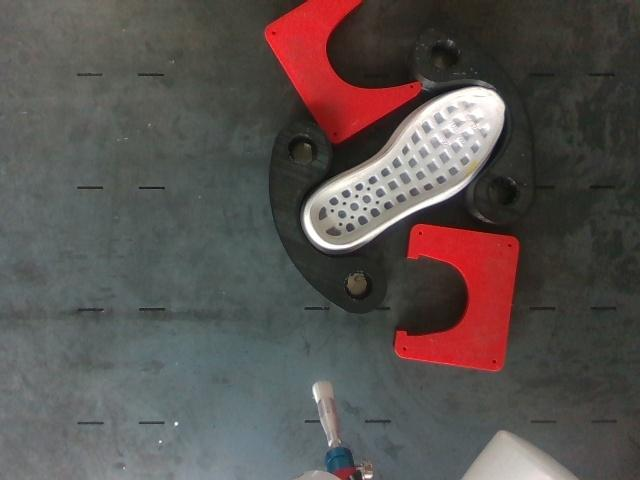shoes: (309, 87, 504, 245)
